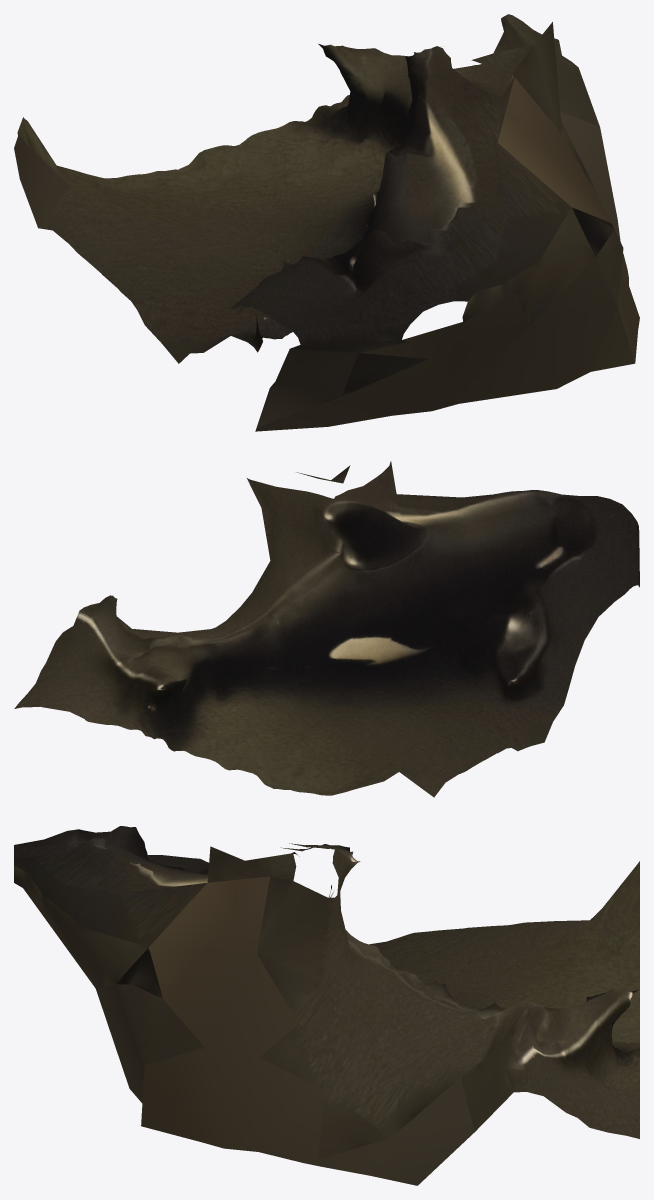
File: yygh (3).glb
3 views of the same model, one above another, from view 1: azimuth 30°, elevation 25°; view 2: azimuth 150°, elevation 25°; view 3: azimuth 270°, elevation 25° (orthographic). The views are drawn at different scales.
Parts seen in each view (by area): view 1: Object_4; view 2: Object_4; view 3: Object_4.
Boxes of the visible parts, <box> form: Object_4: <box>14,14,639,431</box>; Object_4: <box>14,461,639,797</box>; Object_4: <box>14,826,639,1185</box>.
Size of the model in its own units: 3.04 by 1.51 by 3.61.
Materials: 1 (1 with a texture image).
